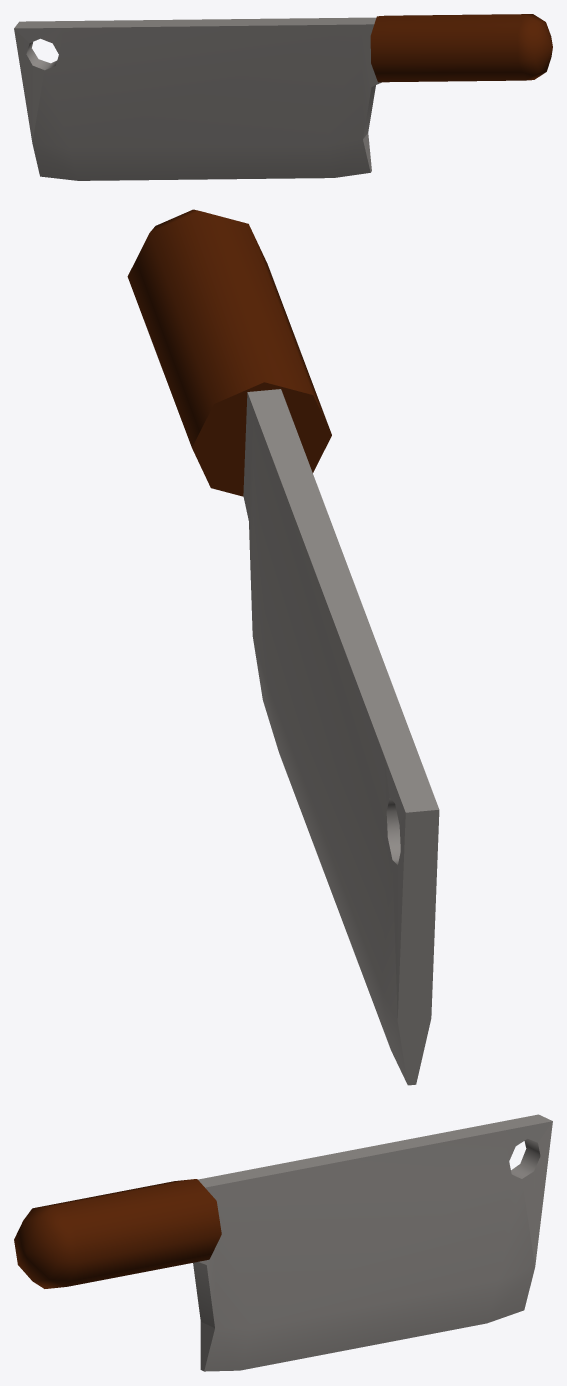
The model's file is Hat_87_03.fbx.
3 renders of one model, top to bottom at view 1: azimuth 30°, elevation 25°; view 2: azimuth 150°, elevation 25°; view 3: azimuth 270°, elevation 25°, orthographic. The views are drawn at different scales.
Parts seen in each view (by area): view 1: Hat_87_03; view 2: Hat_87_03; view 3: Hat_87_03.
Part boxes in pixels (bbox=[...]): Hat_87_03: bbox=[14, 14, 552, 180]; Hat_87_03: bbox=[127, 209, 439, 1085]; Hat_87_03: bbox=[14, 1114, 552, 1371].
Size of the model in its own units: 29.22 by 18.45 by 31.98.
